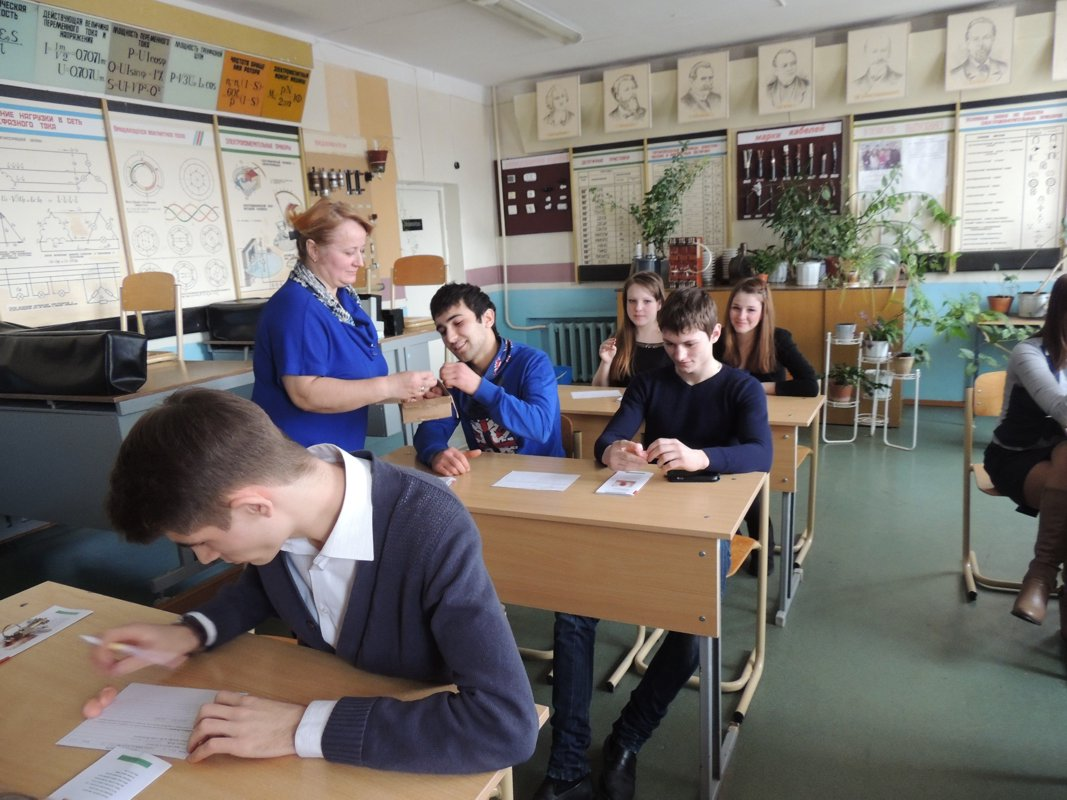students: (99, 391, 536, 771), (543, 289, 771, 793), (246, 199, 432, 451), (988, 273, 1067, 626), (414, 285, 558, 477), (713, 278, 819, 398), (590, 273, 671, 390)
